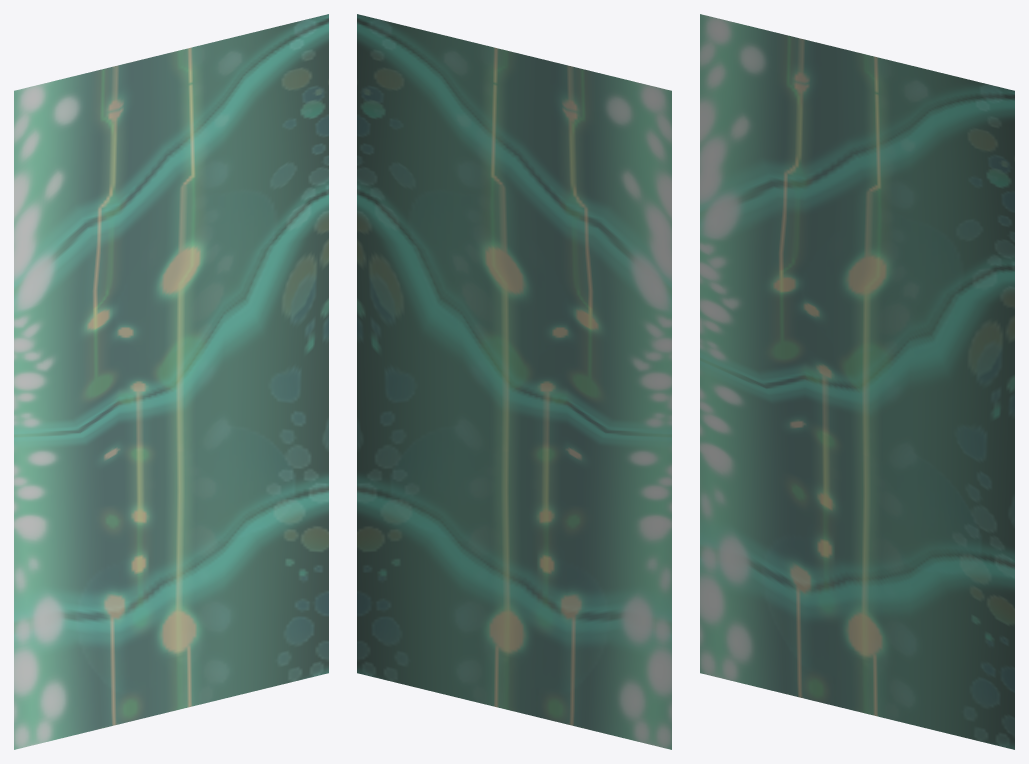
The model's file is m_prop_waterfall01.fbx.
3 renders of one model, left to right at view 1: azimuth 30°, elevation 25°; view 2: azimuth 150°, elevation 25°; view 3: azimuth 330°, elevation 25°, orthographic.
Visible parts, largest first — view 1: m_prop_waterfallA; view 2: m_prop_waterfallA; view 3: m_prop_waterfallA.
Part boxes in pixels (x1,y1,x2,y2): m_prop_waterfallA: (14, 14, 328, 749); m_prop_waterfallA: (357, 14, 671, 749); m_prop_waterfallA: (700, 14, 1014, 749).
Bounding box in the file's own units: 10 × 20 × 1.22e-15.
